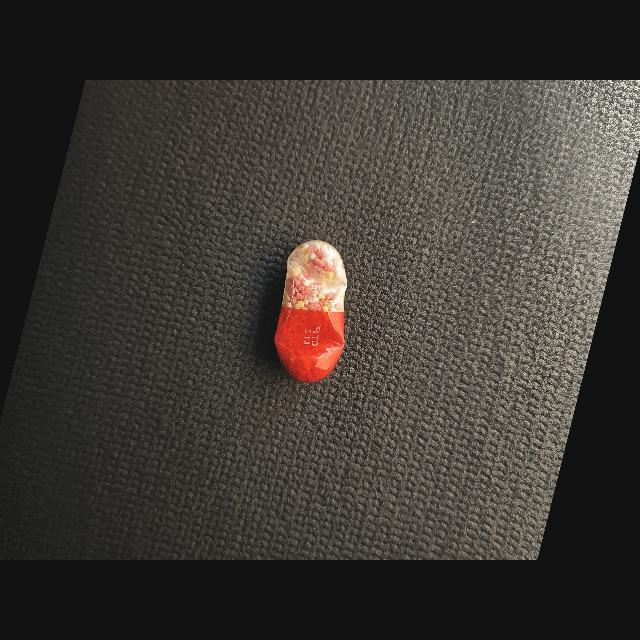Defective Capsule: (274, 240, 348, 383)
